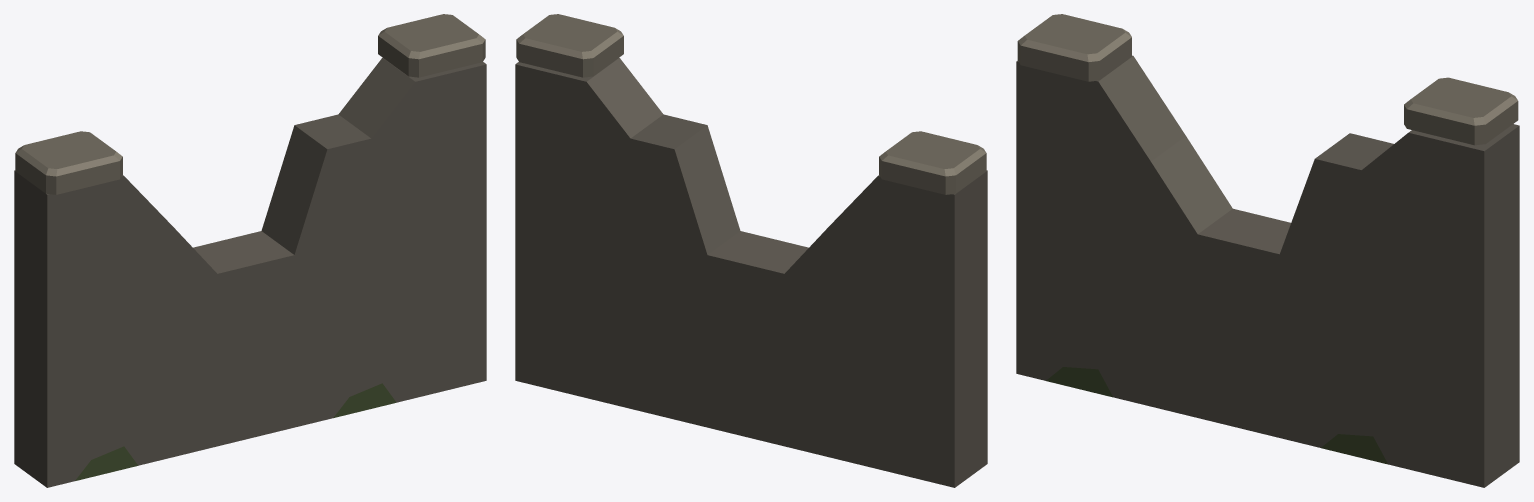
The model's file is wall_garden_broken_4m.glb.
3 renders of one model, left to right at view 1: azimuth 30°, elevation 25°; view 2: azimuth 150°, elevation 25°; view 3: azimuth 330°, elevation 25°, orthographic. The views are drawn at different scales.
Visible parts, largest first — view 1: Body_wall_garden_broken_4m.001; view 2: Body_wall_garden_broken_4m.001; view 3: Body_wall_garden_broken_4m.001.
Boxes of the visible parts, <box> form: Body_wall_garden_broken_4m.001: <box>14,14,486,487</box>; Body_wall_garden_broken_4m.001: <box>515,14,987,487</box>; Body_wall_garden_broken_4m.001: <box>1016,14,1519,487</box>.
Size of the model in its own units: 4 by 3 by 0.6.
